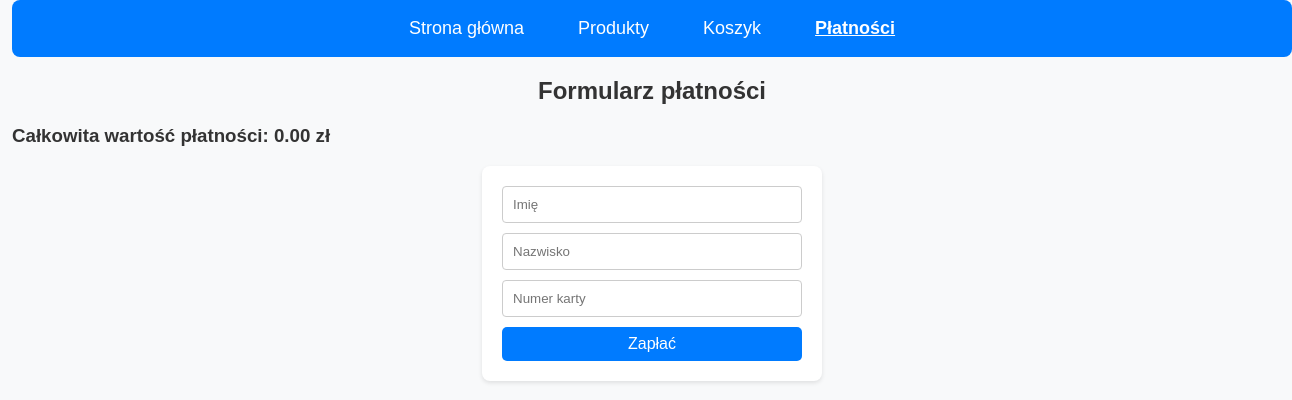
Payment Page Tests › should clear the cart after successful payment
Type "Jan" into the field with placeholder "Imię" at [652, 205], box x1=502 y1=186 x2=802 y2=223
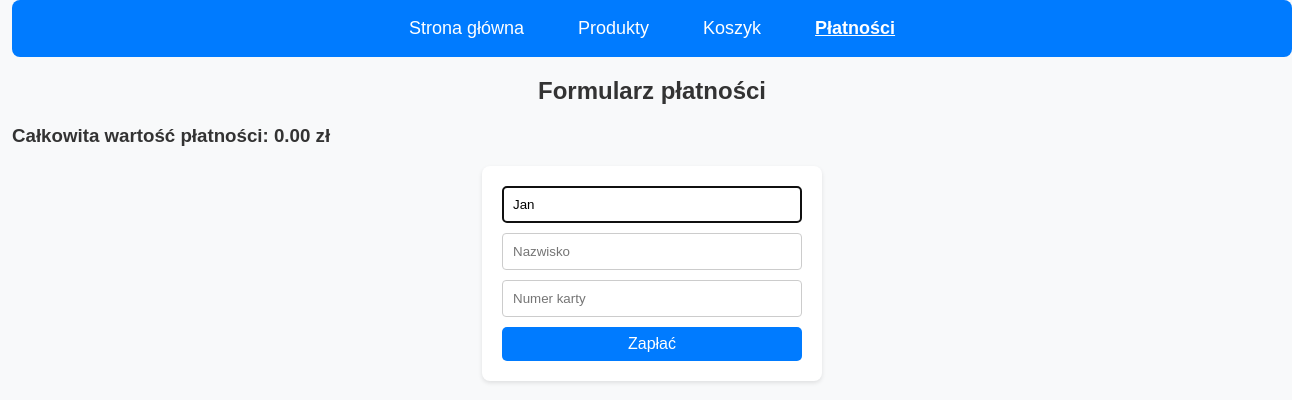
Type "Kowalski" into the field with placeholder "Nazwisko" at [652, 252], box x1=502 y1=233 x2=802 y2=270
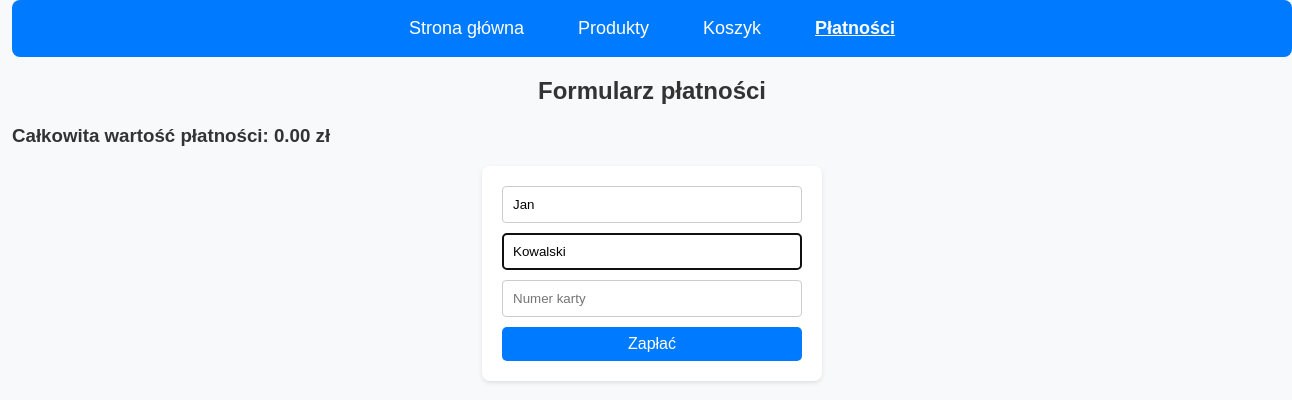
Type "1234 5678 9012 3456" into the field with placeholder "Numer karty" at [652, 299], box x1=502 y1=280 x2=802 y2=317
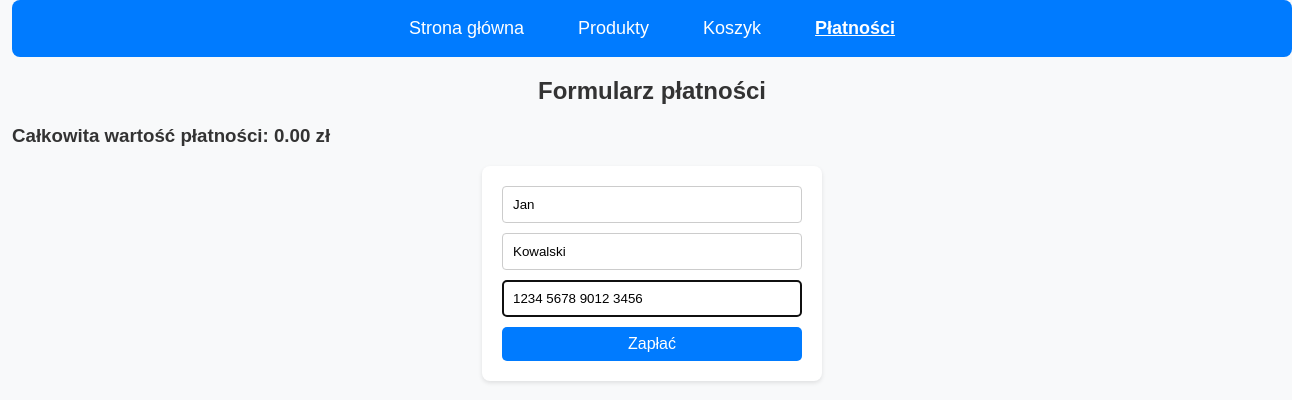
Click the button "Zapłać" at [652, 344], box x1=502 y1=327 x2=802 y2=361
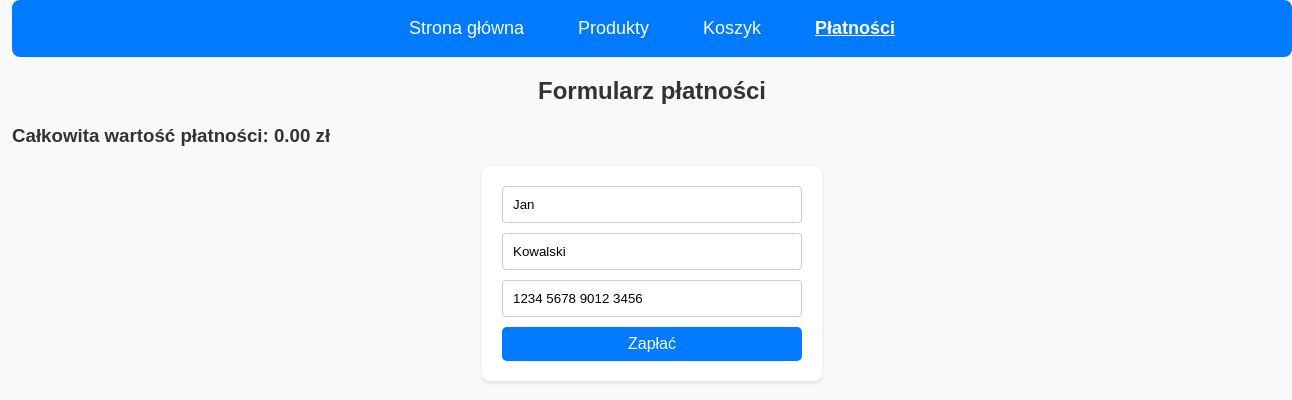
Open "/cart"
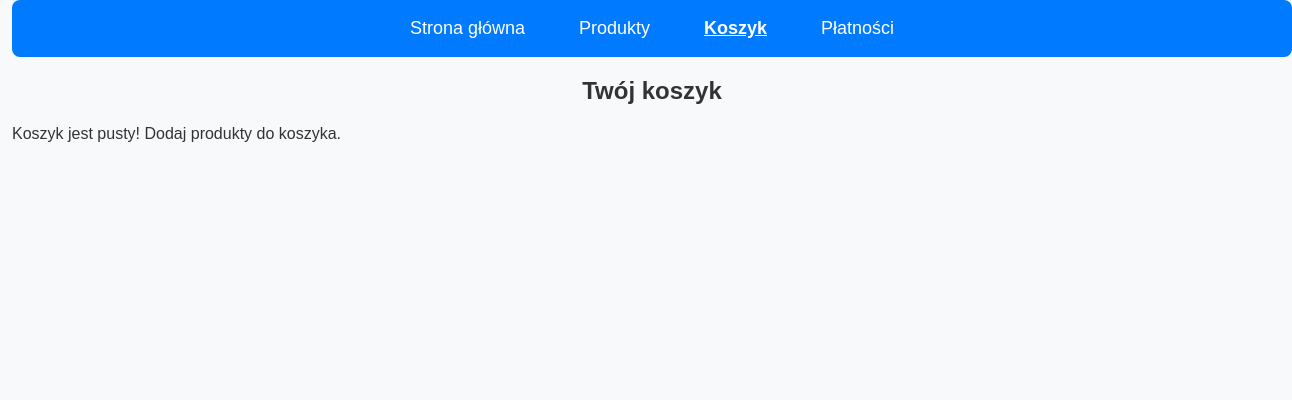
Check: the text "Koszyk jest pusty! Dodaj produkty do koszyka." is shown, box x1=12 y1=125 x2=341 y2=142
Check: the heading "Całkowita wartość płatności: 0.00 zł" no longer shows "zł"
